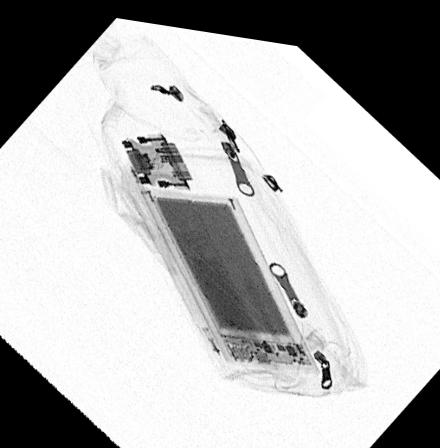Powerbank: (141, 184, 323, 364)
